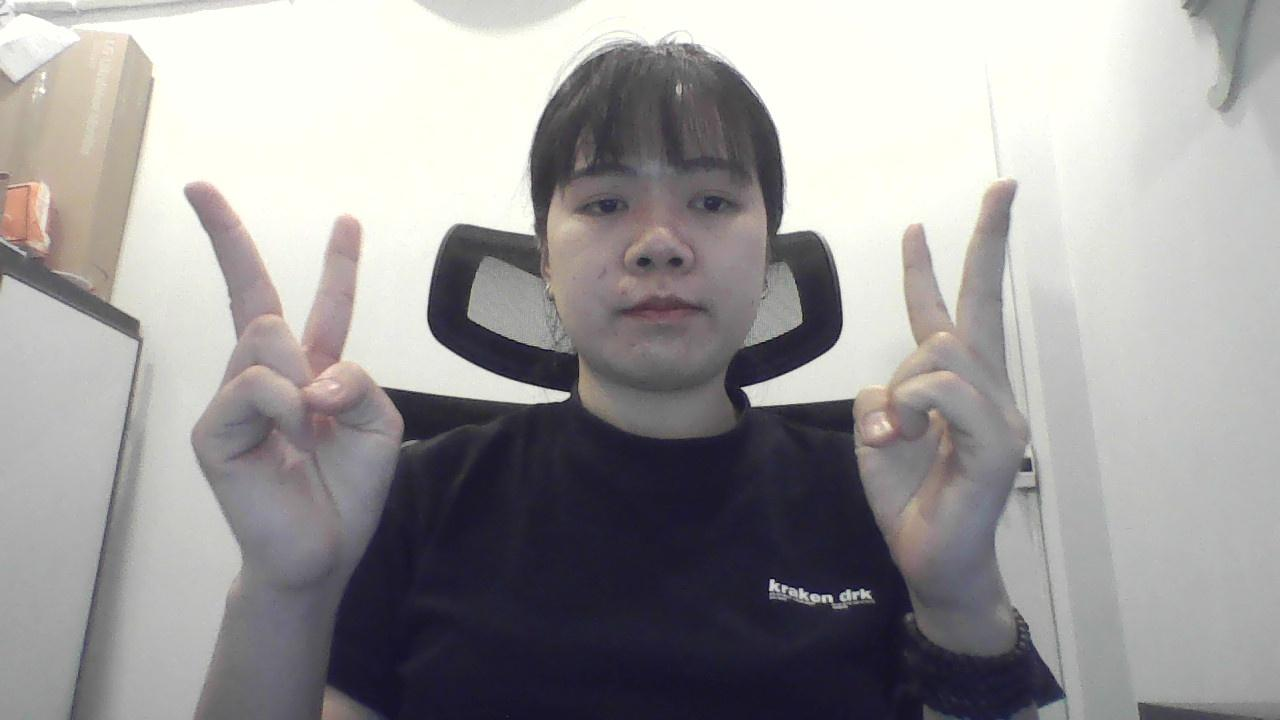V: (177, 165, 410, 598), (852, 167, 1050, 594)
